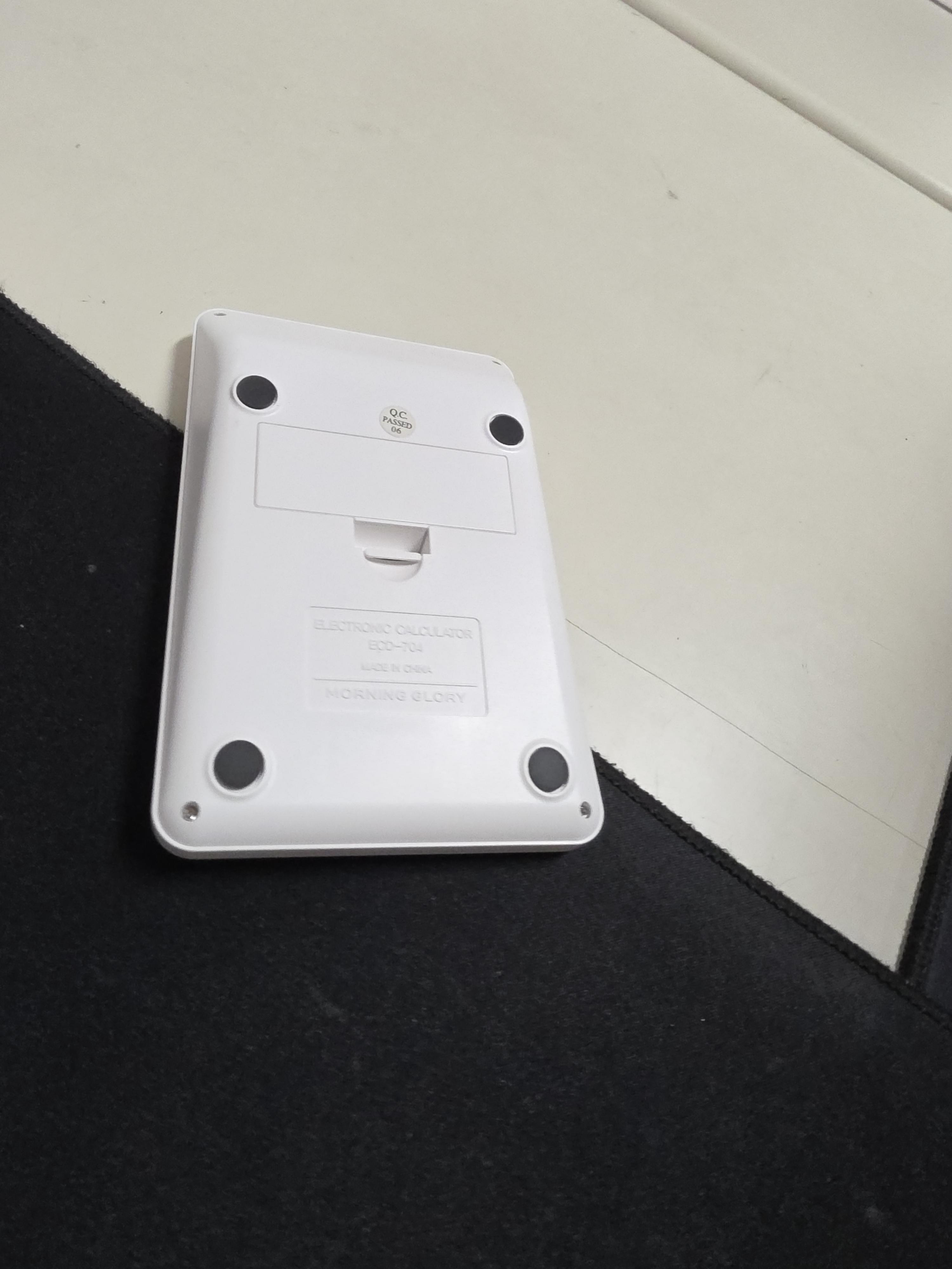calculator: (151, 308, 604, 861)
